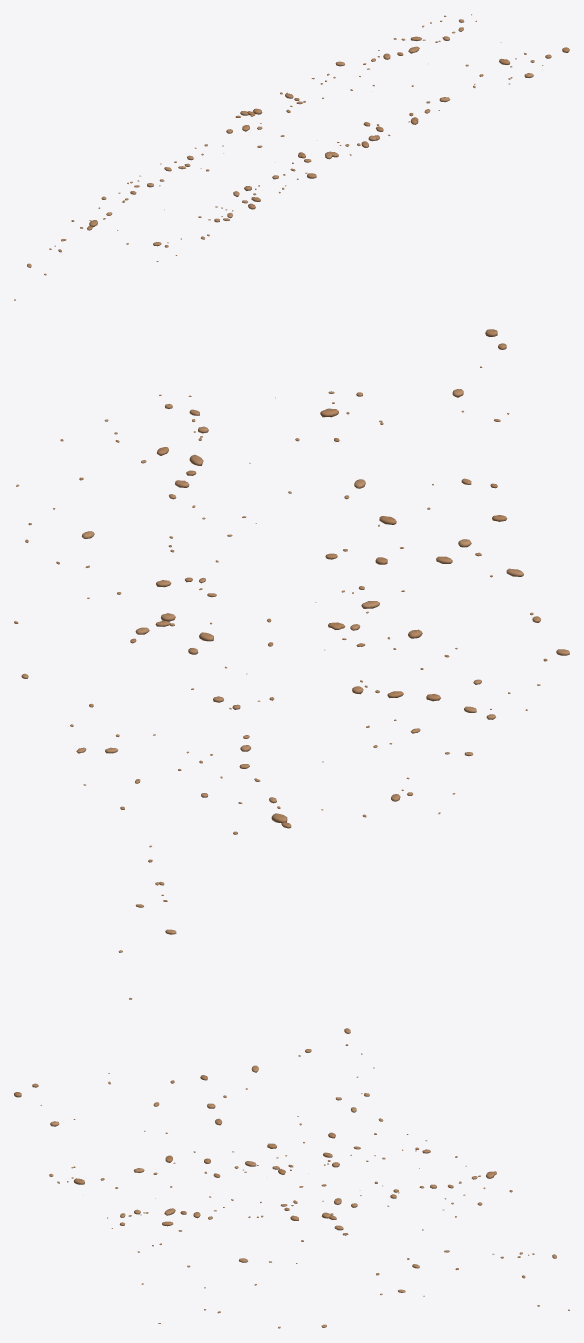
Rendered from terrain-109.glb.
3 renders of one model, top to bottom at view 1: azimuth 90°, elevation 25°; view 2: azimuth 150°, elevation 25°; view 3: azimuth 270°, elevation 25°, orthographic. The views are drawn at different scales.
Visible parts, largest first — view 1: terrain-109; view 2: terrain-109; view 3: terrain-109.
Boxes of the visible parts, x1=… form: terrain-109: x1=14, y1=14, x2=569, y2=300; terrain-109: x1=14, y1=329, x2=569, y2=999; terrain-109: x1=14, y1=1028, x2=569, y2=1328.
Size of the model in its own units: 68.15 by 33.21 by 71.03.
